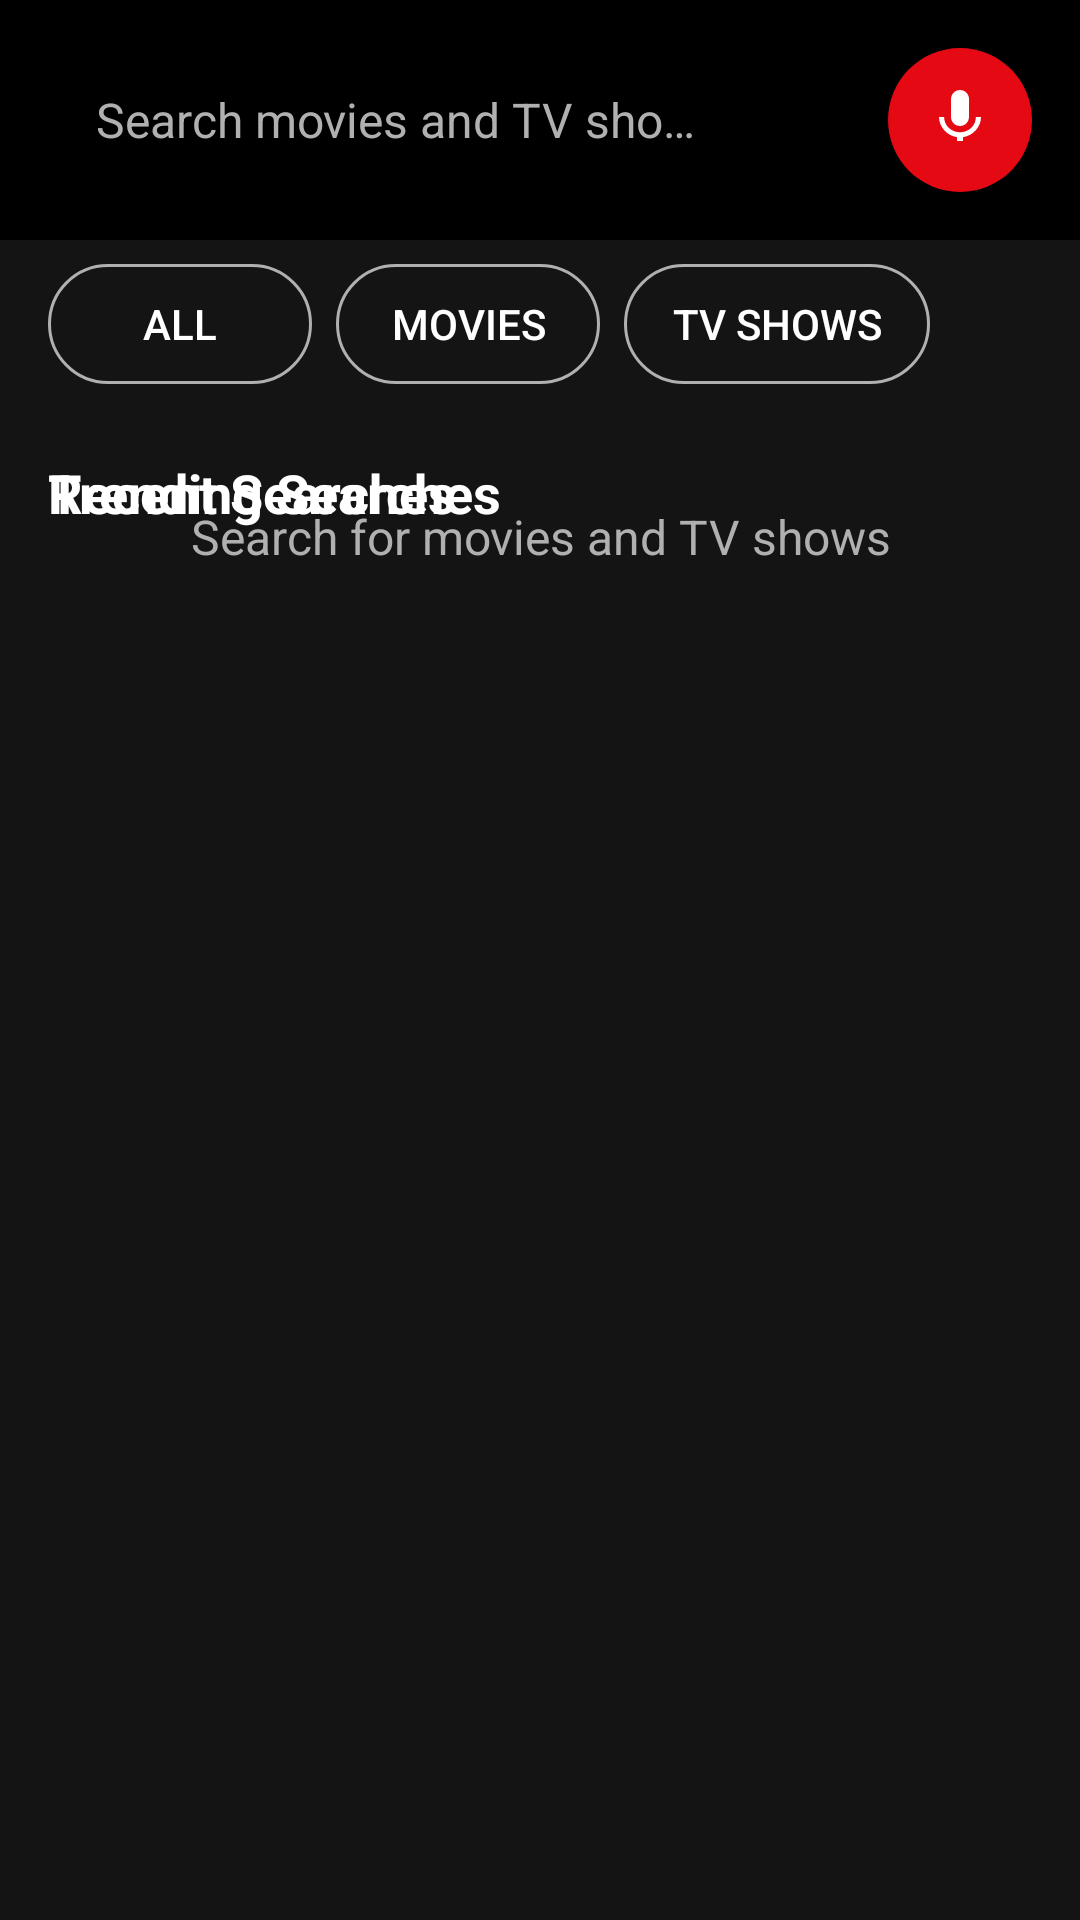

Screen size 1080*1920. Icon name, then its center in pixels as [x,y]:
Voice search: [960,120]
